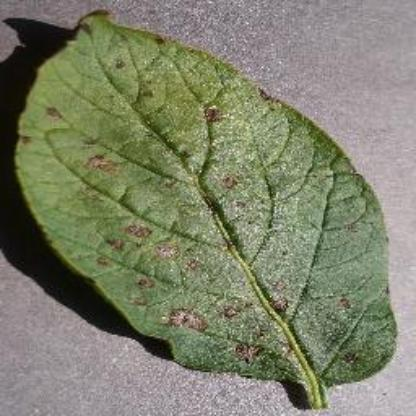Early-Blight: (15, 4, 397, 404)
